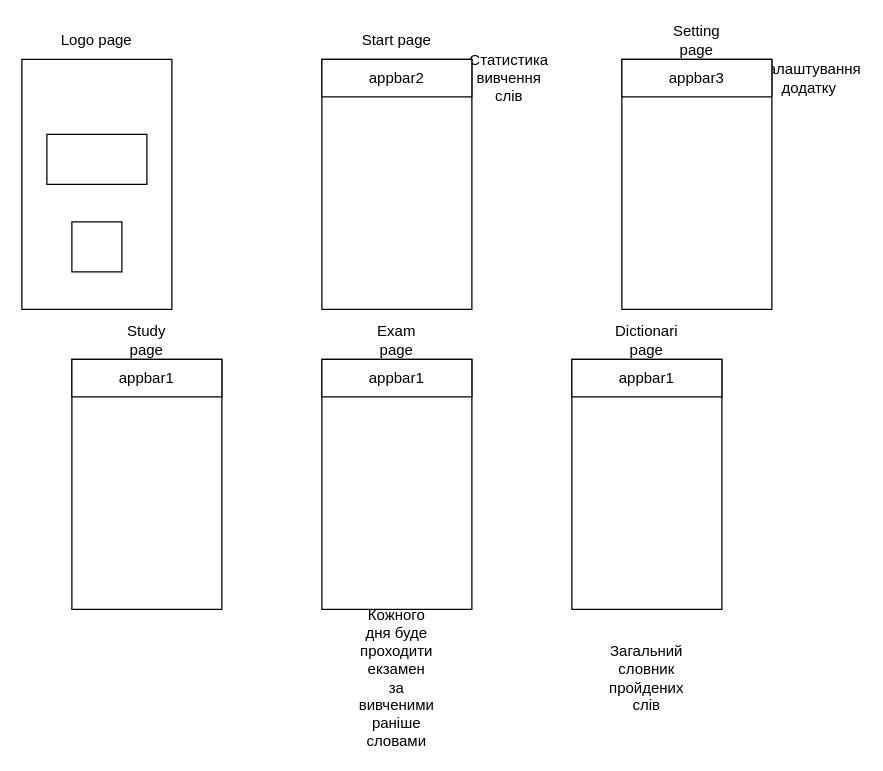
Image size: 883x771. Some labels were removed from this diagram. The centre of each missing label's shape, as x and y in pixels:
LOGO: pixel 96 158
Загру зка: pixel 96 246
